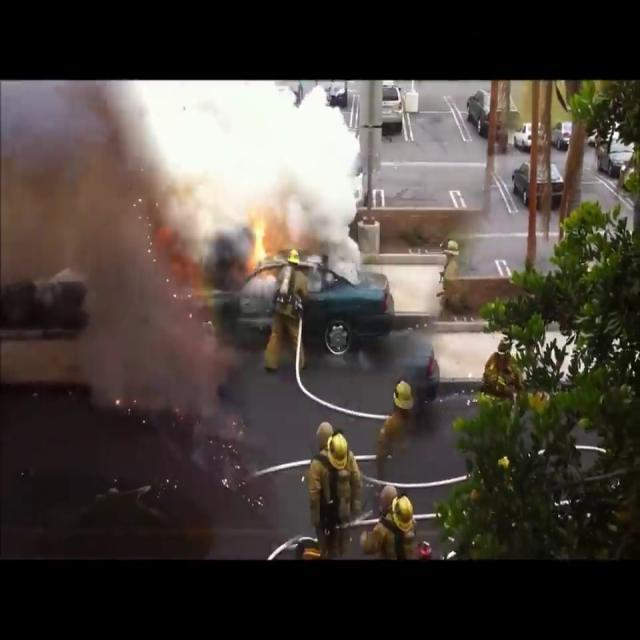Fire: (242, 210, 275, 280)
Smoke: (0, 80, 368, 398)
